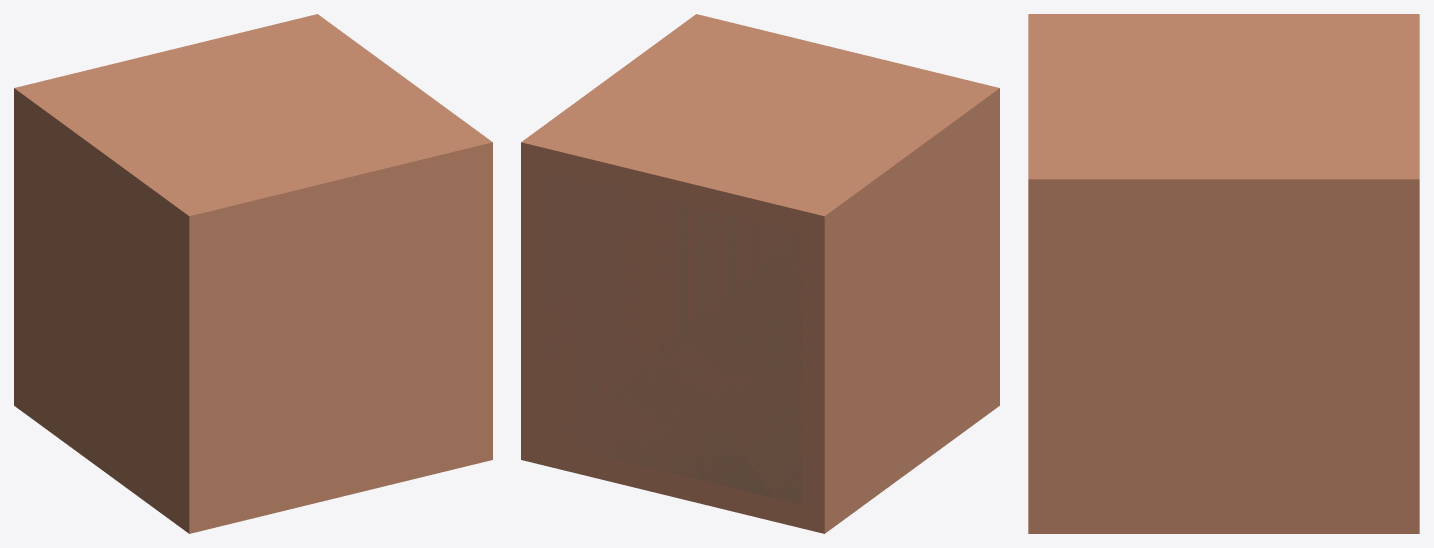
File: 21_emberfrond.glb
3 views of the same model, side by side, from view 1: azimuth 30°, elevation 25°; view 2: azimuth 150°, elevation 25°; view 3: azimuth 270°, elevation 25° (orthographic). The views are drawn at different scales.
Parts seen in each view (by area): view 1: Core; view 2: Core, Soil; view 3: Core.
Boxes of the visible parts, x1=… form: Core: x1=14, y1=14, x2=492, y2=533; Core: x1=521, y1=14, x2=999, y2=533; Soil: x1=544, y1=173, x2=801, y2=503; Core: x1=1028, y1=14, x2=1419, y2=533.
Size of the model in its own units: 1 by 1 by 1.
